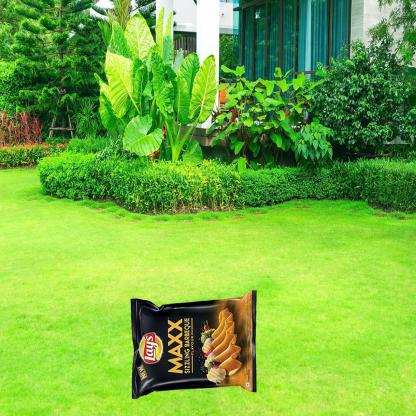maxx_sizzling_barbeque: (130, 290, 258, 400)
